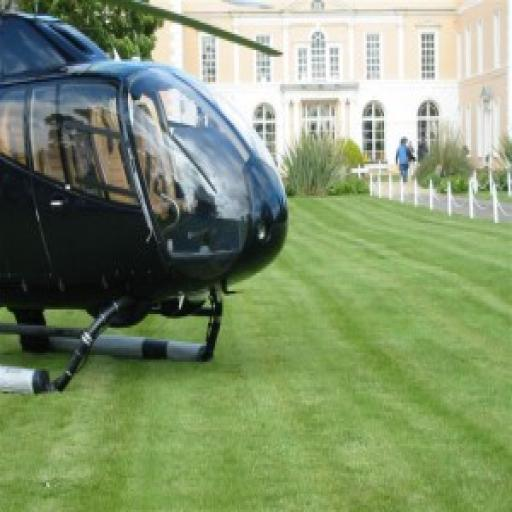helicopter: (4, 3, 281, 395)
